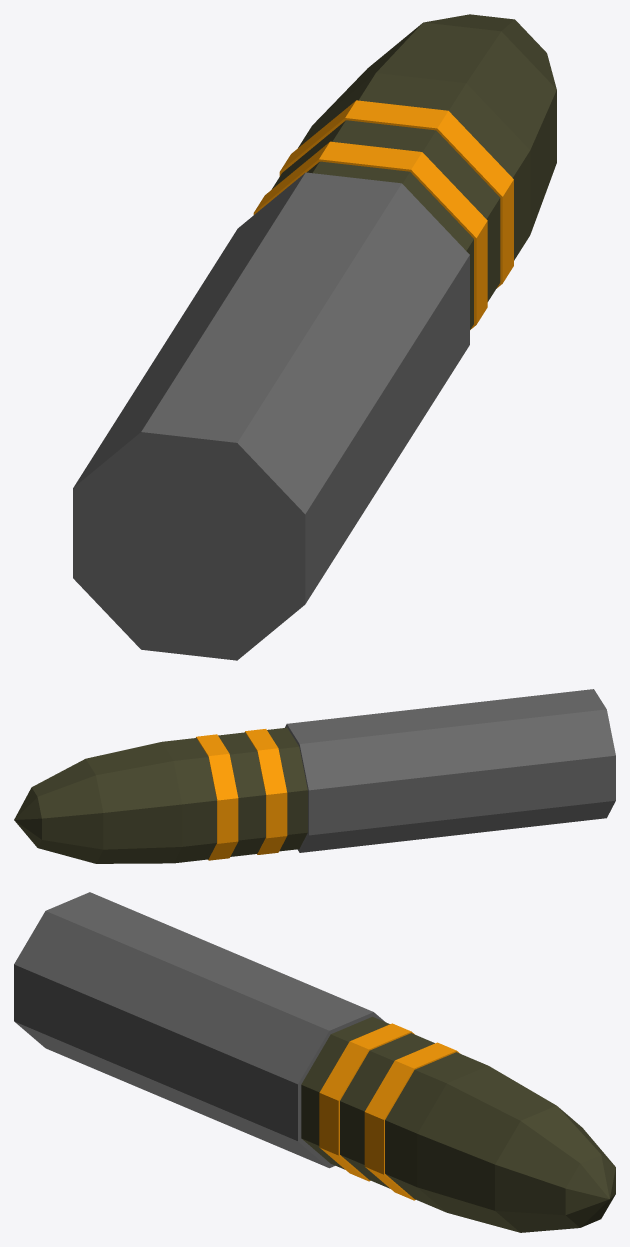
The model's file is ce_ammo2_rcl84_heab_a.obj.
3 renders of one model, top to bottom at view 1: azimuth 30°, elevation 25°; view 2: azimuth 150°, elevation 25°; view 3: azimuth 270°, elevation 25°, orthographic. The views are drawn at different scales.
Parts seen in each view (by area): view 1: ce_ammo2_rcl84_heab_a_0, ce_ammo2_rcl84_heab_a_6, ce_ammo2_rcl84_heab_a_5, ce_ammo2_rcl84_heab_a_3, ce_ammo2_rcl84_heab_a_4, ce_ammo2_rcl84_heab_a_2, ce_ammo2_rcl84_heab_a_1, ce_ammo2_rcl84_heab_a_7; view 2: ce_ammo2_rcl84_heab_a_0, ce_ammo2_rcl84_heab_a_6, ce_ammo2_rcl84_heab_a_7, ce_ammo2_rcl84_heab_a_5, ce_ammo2_rcl84_heab_a_3, ce_ammo2_rcl84_heab_a_4, ce_ammo2_rcl84_heab_a_2, ce_ammo2_rcl84_heab_a_1, ce_ammo2_rcl84_heab_a_8; view 3: ce_ammo2_rcl84_heab_a_0, ce_ammo2_rcl84_heab_a_6, ce_ammo2_rcl84_heab_a_7, ce_ammo2_rcl84_heab_a_5, ce_ammo2_rcl84_heab_a_3, ce_ammo2_rcl84_heab_a_2, ce_ammo2_rcl84_heab_a_4, ce_ammo2_rcl84_heab_a_1, ce_ammo2_rcl84_heab_a_8.
Boxes of the visible parts, x1,y1,x2,y2 form: ce_ammo2_rcl84_heab_a_0: (73, 172, 469, 660); ce_ammo2_rcl84_heab_a_6: (313, 22, 556, 234); ce_ammo2_rcl84_heab_a_5: (298, 73, 530, 260); ce_ammo2_rcl84_heab_a_3: (271, 120, 500, 301); ce_ammo2_rcl84_heab_a_4: (279, 100, 513, 288); ce_ammo2_rcl84_heab_a_2: (253, 141, 487, 329); ce_ammo2_rcl84_heab_a_1: (307, 161, 473, 329); ce_ammo2_rcl84_heab_a_7: (423, 14, 556, 89); ce_ammo2_rcl84_heab_a_0: (285, 689, 615, 852); ce_ammo2_rcl84_heab_a_6: (86, 742, 182, 863); ce_ammo2_rcl84_heab_a_7: (32, 759, 103, 863); ce_ammo2_rcl84_heab_a_5: (162, 738, 216, 863); ce_ammo2_rcl84_heab_a_3: (218, 732, 265, 856); ce_ammo2_rcl84_heab_a_4: (196, 734, 238, 860); ce_ammo2_rcl84_heab_a_2: (245, 729, 287, 854); ce_ammo2_rcl84_heab_a_1: (267, 727, 307, 851); ce_ammo2_rcl84_heab_a_8: (14, 787, 41, 847); ce_ammo2_rcl84_heab_a_0: (14, 892, 384, 1168); ce_ammo2_rcl84_heab_a_6: (417, 1066, 556, 1232); ce_ammo2_rcl84_heab_a_7: (495, 1105, 614, 1232); ce_ammo2_rcl84_heab_a_5: (385, 1052, 488, 1212); ce_ammo2_rcl84_heab_a_3: (340, 1033, 434, 1188); ce_ammo2_rcl84_heab_a_2: (319, 1023, 414, 1181); ce_ammo2_rcl84_heab_a_4: (364, 1042, 460, 1200); ce_ammo2_rcl84_heab_a_1: (301, 1016, 389, 1169); ce_ammo2_rcl84_heab_a_8: (565, 1154, 615, 1227).
Size of the model in its own units: 0.6596 by 0.1662 by 0.6596.
